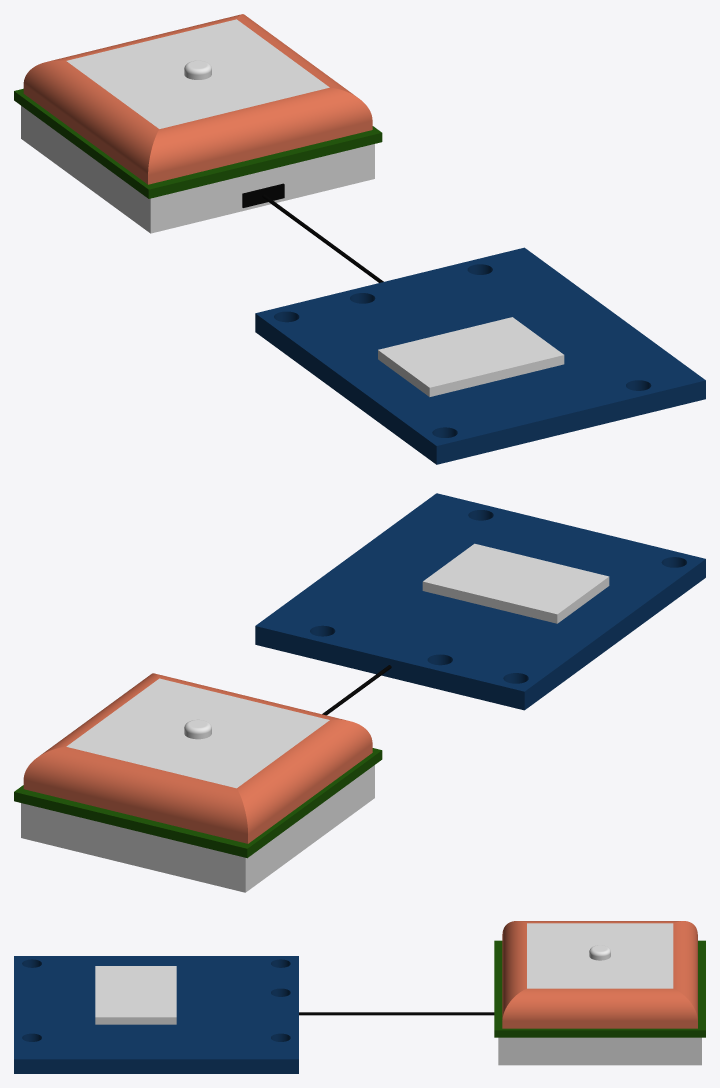
File: modulo_gps.dae
The picture shows the model from 3 angles, top to bottom: view 1: azimuth 30°, elevation 25°; view 2: azimuth 150°, elevation 25°; view 3: azimuth 270°, elevation 25°; orthographic projection. The views are drawn at different scales.
Visible parts, largest first — view 1: ID2; view 2: ID2; view 3: ID2.
Boxes of the visible parts, x1,y1,x2,y2 form: ID2: (14,14,705,464); ID2: (14,493,705,892); ID2: (14,921,705,1073).
Size of the model in its own units: 0.03 by 0.085 by 0.01.
